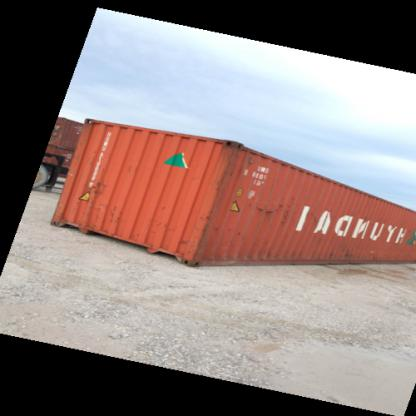Damage: (180, 198, 222, 260), (82, 172, 130, 226), (245, 186, 296, 229), (210, 140, 247, 196), (327, 240, 360, 262), (307, 207, 321, 228)
